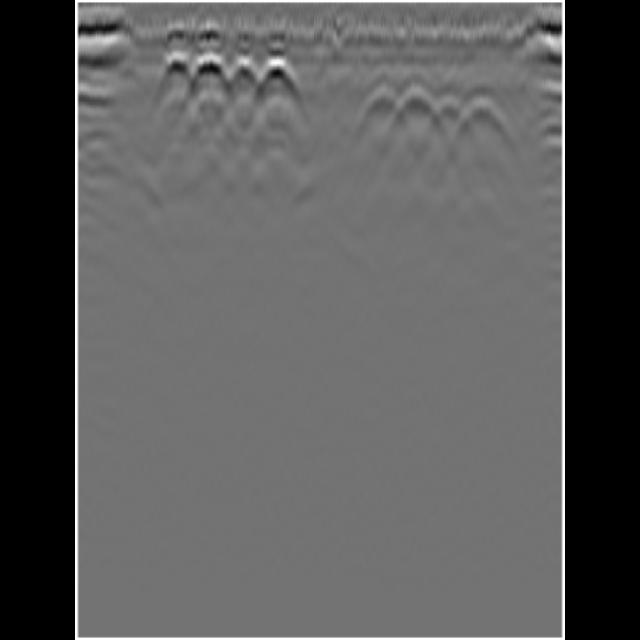hyperbola: (458, 90, 512, 140), (258, 53, 304, 97), (220, 52, 264, 94), (394, 79, 434, 123), (360, 79, 406, 117), (157, 46, 195, 90), (430, 88, 474, 125), (191, 50, 231, 88)
